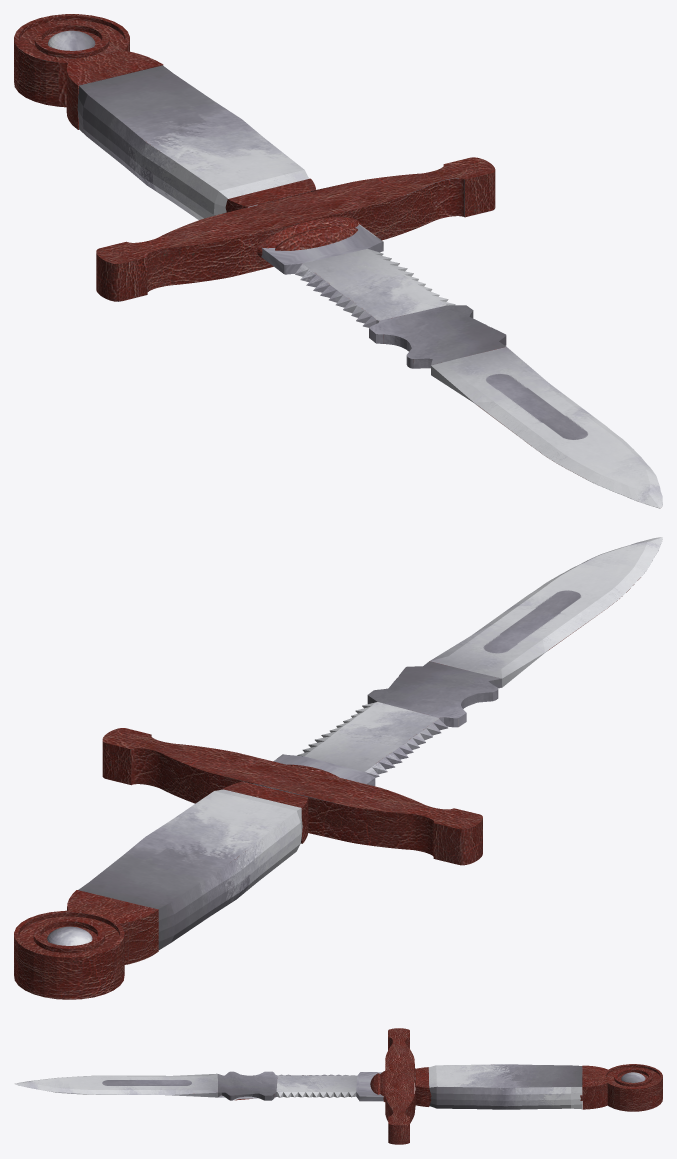
File: knife2.fbx
The picture shows the model from 3 angles, top to bottom: view 1: azimuth 30°, elevation 25°; view 2: azimuth 150°, elevation 25°; view 3: azimuth 270°, elevation 25°; orthographic projection. The views are drawn at different scales.
Parts seen in each view (by area): view 1: Blade; view 2: Blade; view 3: Blade.
Boxes of the visible parts, x1=… form: Blade: x1=14, y1=14, x2=662, y2=508; Blade: x1=14, y1=537, x2=662, y2=999; Blade: x1=14, y1=1028, x2=662, y2=1144.
Bounding box in the file's own units: 1.71 × 0.22 × 4.82.
